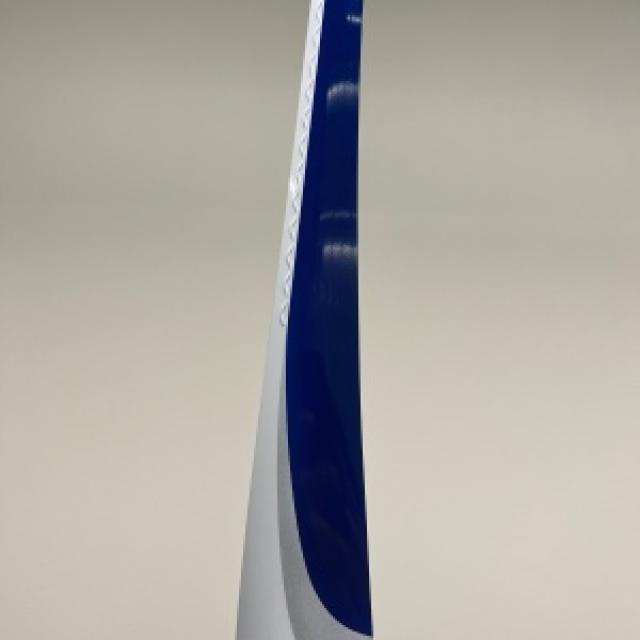healthy: (237, 0, 369, 638)
